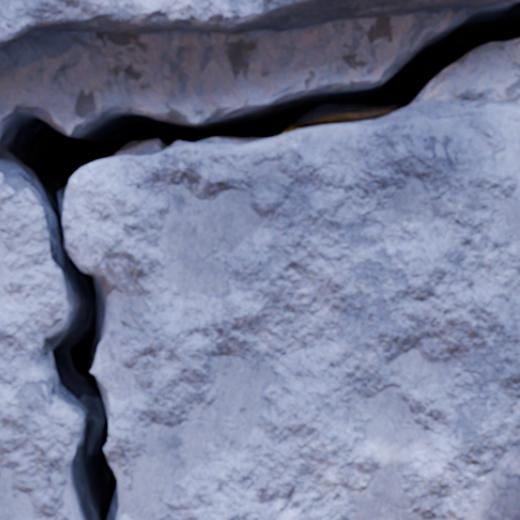brick: (0, 0, 519, 47)
broken_brick: (64, 99, 519, 519), (0, 175, 78, 519)
crack: (0, 1, 519, 519)
